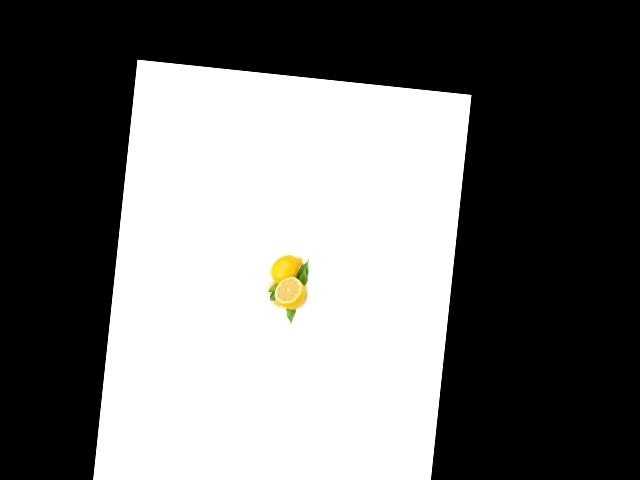lemon: (272, 274, 310, 313)
